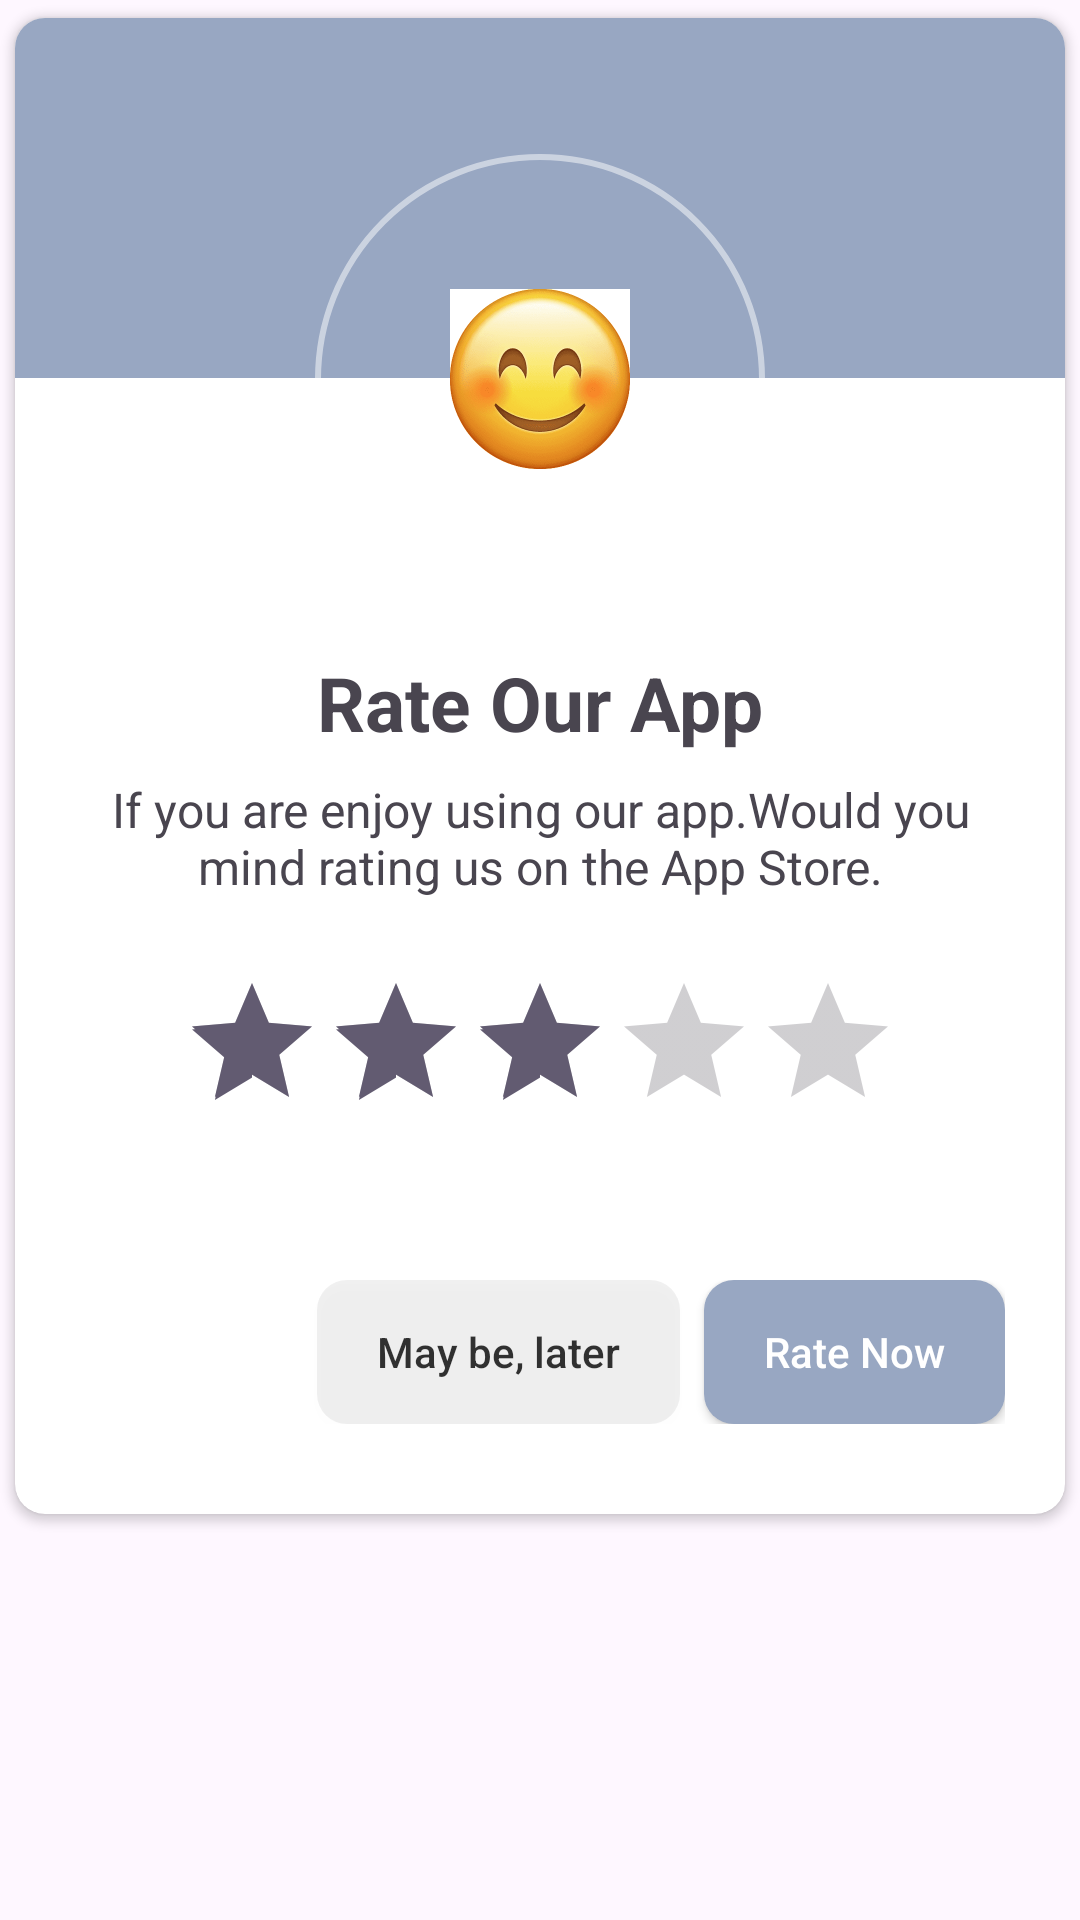

Icon click points for this 1080w x 1920h phone screenshot, format (x,y):
imoji three star: (540,379)
